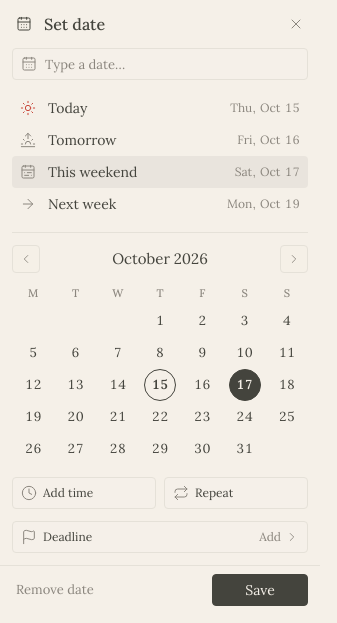
Test: TaskDatePickerPanel › time and deadline screen › goes back on Escape instead of closing the menu
This screenshot has width=337, height=623.
Click the button "Add time" at (84, 493), box [12,477,156,509]
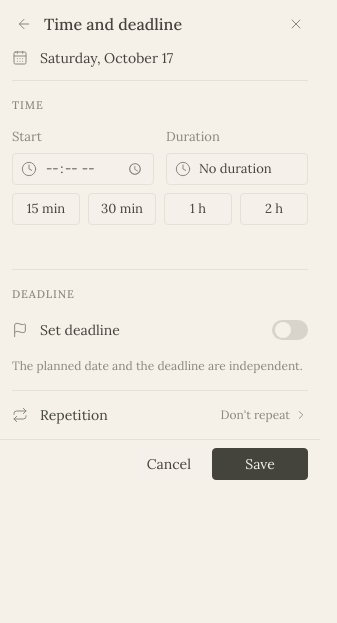
Press Escape in the time field labelled "Start", box [45,154,145,184]
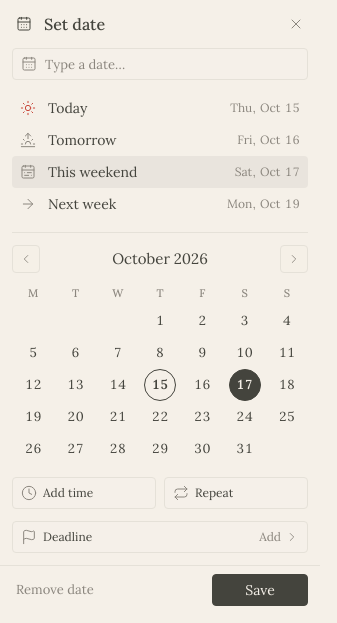
Expected: the heading "Set date" is shown, [44,14,105,34]
